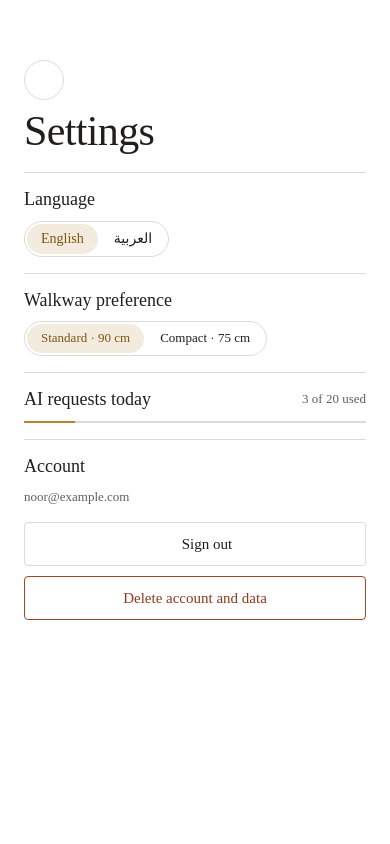
Test: if deleting fails the dialog stays, says why, and nothing is lost
Click the button "Delete account and data" at (195, 598), box [24,576,366,620]
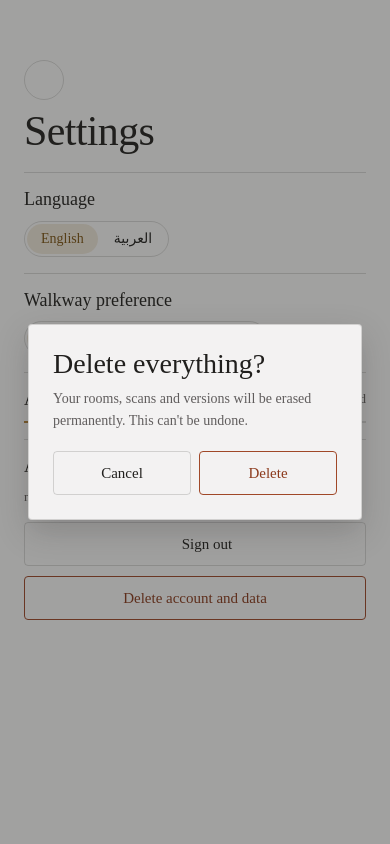
Click the button "Delete" at (268, 473), box [199,451,337,495]
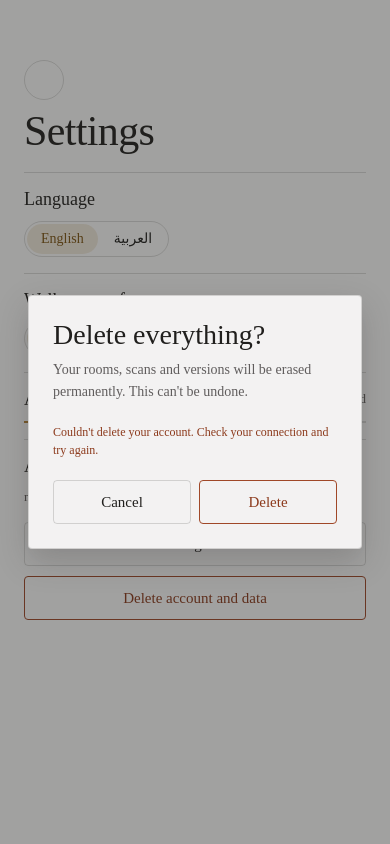
Expected: the text "Delete everything?" is shown, [53,319,265,350]
Expected: the text "Couldn't delete your account. Check your connection and try again." is shown, [53,423,337,460]
